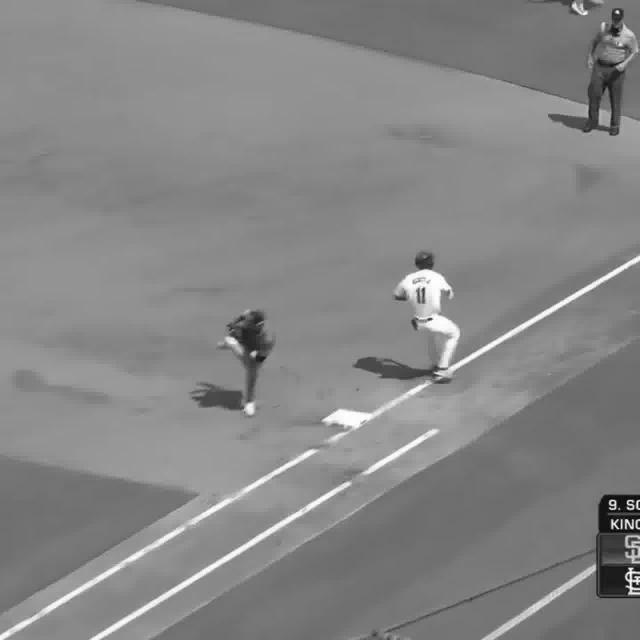base: (318, 408, 373, 431)
shoe: (429, 369, 458, 382), (244, 403, 258, 415)
